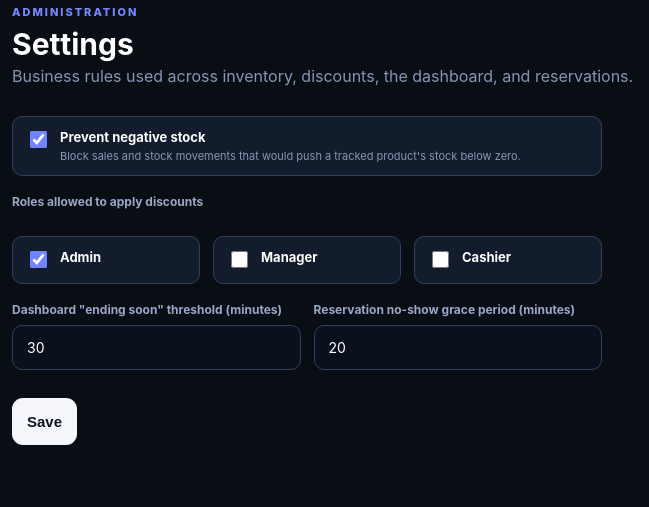
it: SettingsPage › disables save and shows a warning when every discount role is unchecked
Click the checkbox labelled "Admin".
click(38, 260)  # box [30,251,47,268]
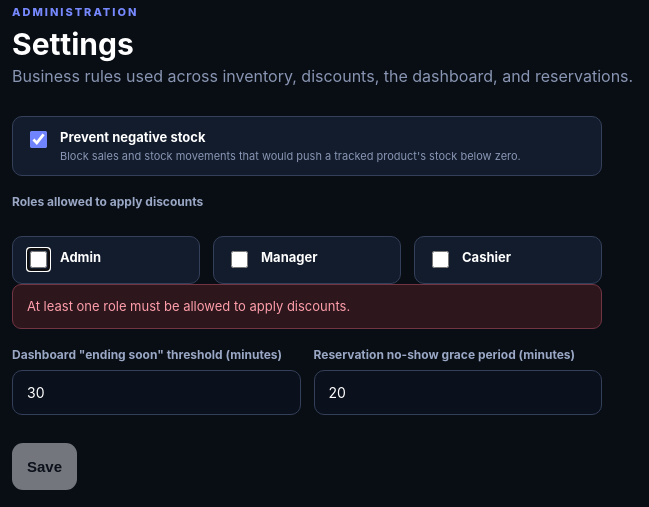
Result: the text "At least one role must be allowed to apply discounts." is shown at [12,284,602,329]
Result: the button "Save" is disabled at [12,443,77,490]
